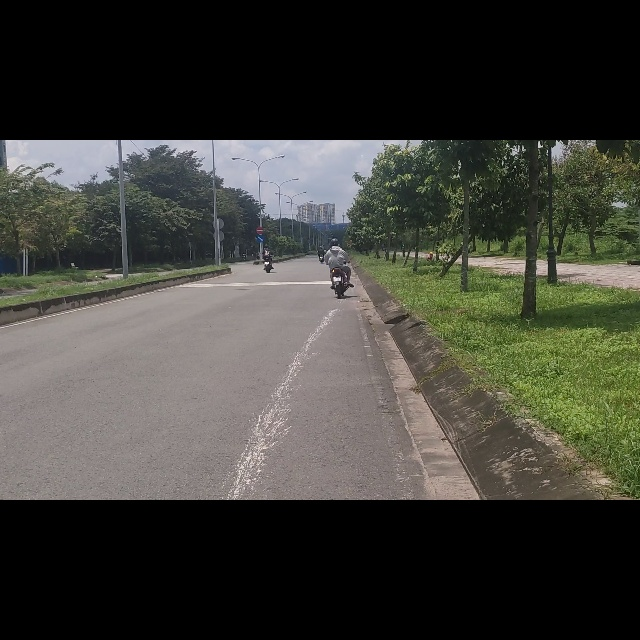bien_hieu_lenh: (257, 169, 264, 182), (256, 155, 263, 167)
